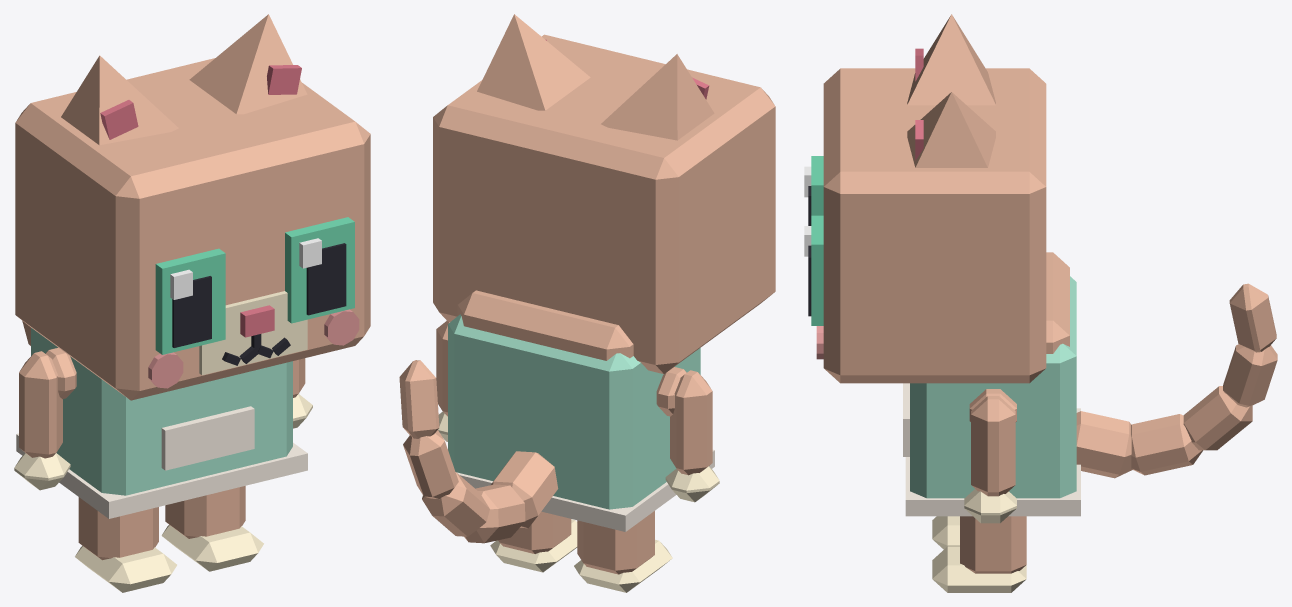
File: CleanACat_NPC_Helper.fbx
The picture shows the model from 3 angles, left to right: view 1: azimuth 30°, elevation 25°; view 2: azimuth 150°, elevation 25°; view 3: azimuth 270°, elevation 25°; orthographic projection. The views are drawn at different scales.
Visible parts, largest first — view 1: CleanACat_NPC_Helper_Head, CleanACat_NPC_Helper_Body, CleanACat_NPC_Helper_Eye2, CleanACat_NPC_Helper_Eye1, CleanACat_NPC_Helper_EarL, CleanACat_NPC_Helper_LegB2, CleanACat_NPC_Helper_LegB1, CleanACat_NPC_Helper_EarR, CleanACat_NPC_Helper_LegF2, CleanACat_NPC_Helper_LegF1; view 2: CleanACat_NPC_Helper_Head, CleanACat_NPC_Helper_Body, CleanACat_NPC_Helper_Tail, CleanACat_NPC_Helper_EarL, CleanACat_NPC_Helper_EarR, CleanACat_NPC_Helper_LegB2, CleanACat_NPC_Helper_LegF2, CleanACat_NPC_Helper_LegB1, CleanACat_NPC_Helper_LegF1; view 3: CleanACat_NPC_Helper_Head, CleanACat_NPC_Helper_Body, CleanACat_NPC_Helper_Tail, CleanACat_NPC_Helper_LegB1, CleanACat_NPC_Helper_LegF1, CleanACat_NPC_Helper_EarR, CleanACat_NPC_Helper_EarL, CleanACat_NPC_Helper_Eye1, CleanACat_NPC_Helper_Eye2, CleanACat_NPC_Helper_LegB2.
Part boxes in pixels (<box>): CleanACat_NPC_Helper_Head: <box>15,58,370,400</box>; CleanACat_NPC_Helper_Body: <box>16,328,307,518</box>; CleanACat_NPC_Helper_Eye2: <box>155,248,225,354</box>; CleanACat_NPC_Helper_Eye1: <box>285,217,354,323</box>; CleanACat_NPC_Helper_EarL: <box>189,14,307,114</box>; CleanACat_NPC_Helper_LegB2: <box>75,497,176,592</box>; CleanACat_NPC_Helper_LegB1: <box>161,486,263,571</box>; CleanACat_NPC_Helper_EarR: <box>61,55,178,145</box>; CleanACat_NPC_Helper_LegF2: <box>14,351,70,490</box>; CleanACat_NPC_Helper_LegF1: <box>293,358,312,428</box>; CleanACat_NPC_Helper_Head: <box>433,34,775,373</box>; CleanACat_NPC_Helper_Body: <box>448,290,714,531</box>; CleanACat_NPC_Helper_Tail: <box>399,360,558,543</box>; CleanACat_NPC_Helper_EarL: <box>477,14,590,110</box>; CleanACat_NPC_Helper_EarR: <box>601,54,714,140</box>; CleanACat_NPC_Helper_LegB2: <box>574,511,672,592</box>; CleanACat_NPC_Helper_LegF2: <box>665,370,719,502</box>; CleanACat_NPC_Helper_LegB1: <box>490,511,577,572</box>; CleanACat_NPC_Helper_LegF1: <box>436,321,449,441</box>; CleanACat_NPC_Helper_Head: <box>816,68,1046,383</box>; CleanACat_NPC_Helper_Body: <box>903,252,1080,516</box>; CleanACat_NPC_Helper_Tail: <box>1076,283,1277,478</box>; CleanACat_NPC_Helper_LegB1: <box>932,516,1026,592</box>; CleanACat_NPC_Helper_LegF1: <box>964,396,1016,523</box>; CleanACat_NPC_Helper_EarR: <box>907,14,995,105</box>; CleanACat_NPC_Helper_EarL: <box>907,92,995,167</box>; CleanACat_NPC_Helper_Eye1: <box>804,215,823,325</box>; CleanACat_NPC_Helper_Eye2: <box>804,156,823,225</box>; CleanACat_NPC_Helper_LegB2: <box>932,516,959,549</box>.
Bounding box in the file's own units: 1.07 × 1.93 × 1.62.
1 material, 1 textured.
